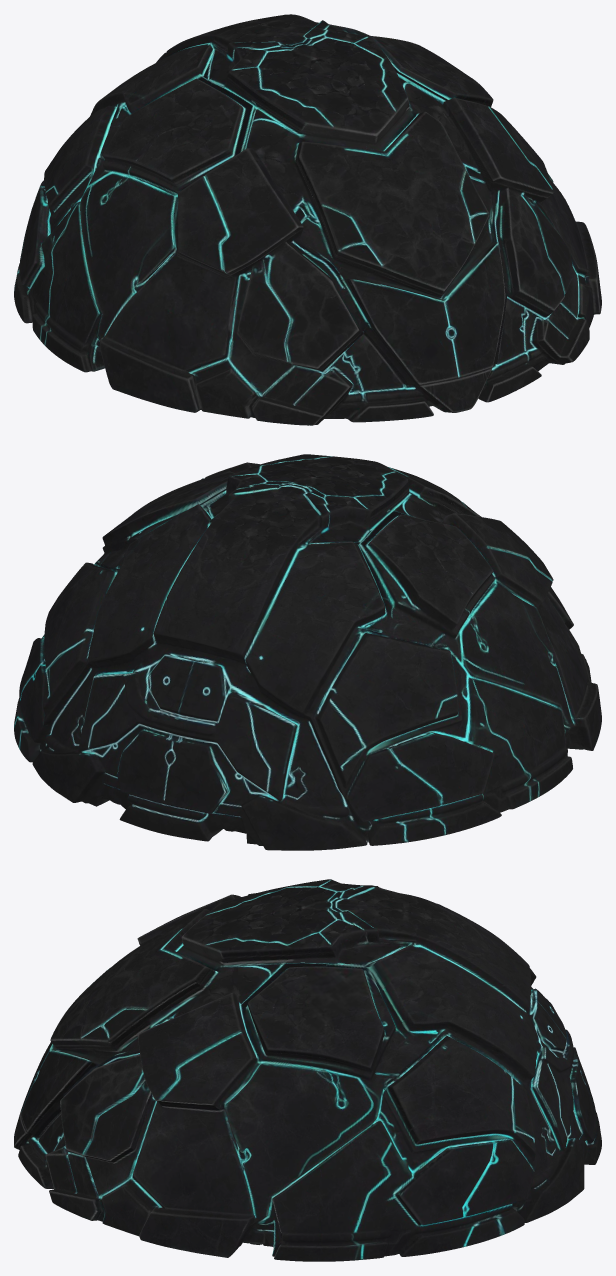
File: onyx_membrane.glb
3 renders of one model, top to bottom at view 1: azimuth 30°, elevation 25°; view 2: azimuth 150°, elevation 25°; view 3: azimuth 270°, elevation 25°, orthographic. The views are drawn at different scales.
Bounding box in the file's own units: 1.8 × 0.8589 × 1.9.
Materials: 1 (1 with a texture image).
